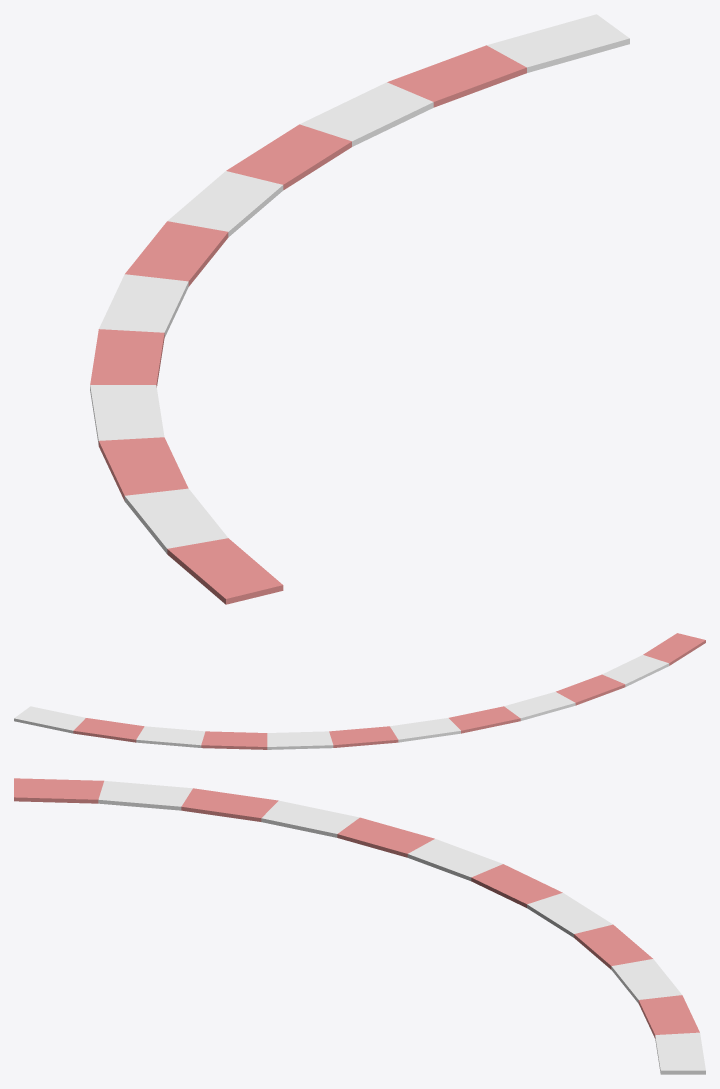
The model's file is roadCornerLargerBorder.glb.
3 views of the same model, one above another, from view 1: azimuth 30°, elevation 25°; view 2: azimuth 150°, elevation 25°; view 3: azimuth 270°, elevation 25° (orthographic). The views are drawn at different scales.
Visible parts, largest first — view 1: roadCornerLargerBorder; view 2: roadCornerLargerBorder; view 3: roadCornerLargerBorder.
Part boxes in pixels (x1=…): roadCornerLargerBorder: x1=90, y1=14, x2=629, y2=604; roadCornerLargerBorder: x1=14, y1=633, x2=705, y2=749; roadCornerLargerBorder: x1=14, y1=778, x2=705, y2=1074.
Size of the model in its own units: 16.05 by 0.1 by 16.05.
